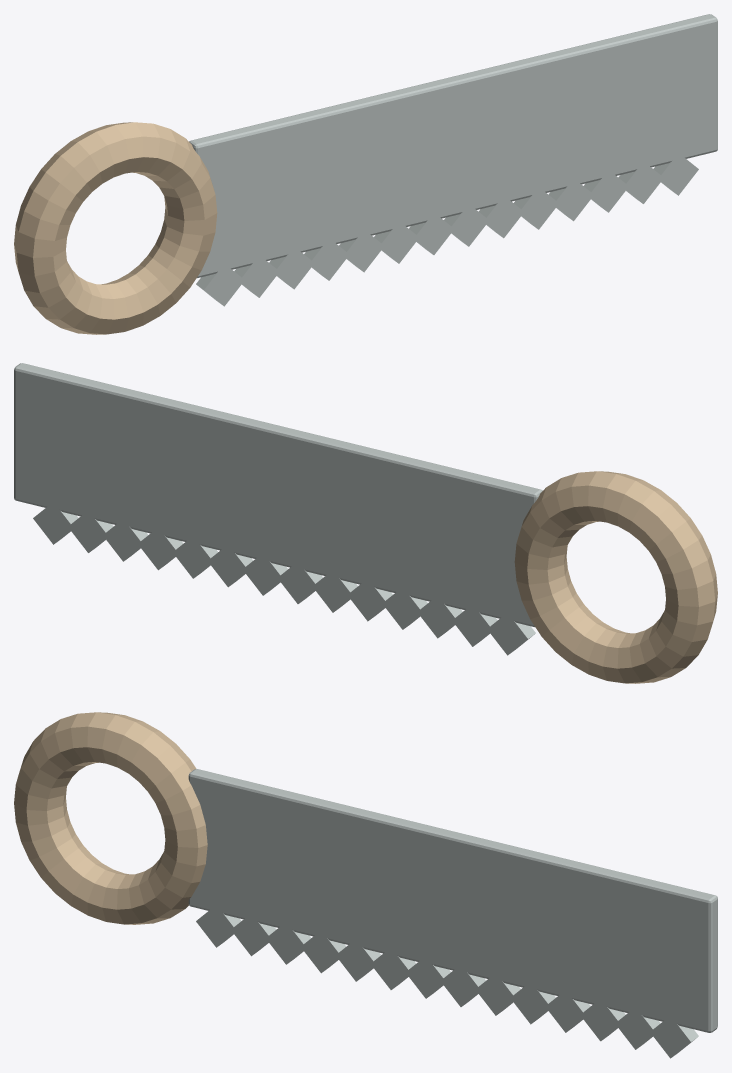
3 views of the same model, one above another, from view 1: azimuth 30°, elevation 25°; view 2: azimuth 150°, elevation 25°; view 3: azimuth 330°, elevation 25° (orthographic).
Parts seen in each view (by area): view 1: saw blade, grip, saw tooth, saw tooth.005, saw tooth.012, saw tooth.006, saw tooth.008, saw tooth.002, saw tooth.013, saw tooth.003, saw tooth.007, saw tooth.001 (+4 smaller); view 2: saw blade, grip, saw tooth, saw tooth.001, saw tooth.005, saw tooth.006, saw tooth.002, saw tooth.008, saw tooth.009, saw tooth.003, saw tooth.007, saw tooth.004 (+4 smaller); view 3: saw blade, grip, saw tooth.013, saw tooth, saw tooth.009, saw tooth.010, saw tooth.005, saw tooth.001, saw tooth.002, saw tooth.006, saw tooth.003, saw tooth.011 (+4 smaller).
Part boxes in pixels (<box>): saw blade: <box>189,14,717,278</box>; grip: <box>14,122,217,334</box>; saw tooth: <box>196,264,244,306</box>; saw tooth.005: <box>374,221,419,263</box>; saw tooth.012: <box>618,161,662,203</box>; saw tooth.006: <box>409,213,454,254</box>; saw tooth.008: <box>478,196,523,238</box>; saw tooth.002: <box>269,247,314,289</box>; saw tooth.013: <box>653,155,698,195</box>; saw tooth.003: <box>304,238,349,280</box>; saw tooth.007: <box>444,204,489,246</box>; saw tooth.001: <box>234,255,279,297</box>; saw blade: <box>14,363,542,627</box>; grip: <box>514,471,717,683</box>; saw tooth: <box>487,613,535,655</box>; saw tooth.001: <box>452,604,497,646</box>; saw tooth.005: <box>313,570,357,612</box>; saw tooth.006: <box>277,562,322,603</box>; saw tooth.002: <box>417,595,462,638</box>; saw tooth.008: <box>208,545,253,587</box>; saw tooth.009: <box>173,536,217,578</box>; saw tooth.003: <box>382,587,427,629</box>; saw tooth.007: <box>242,555,287,595</box>; saw tooth.004: <box>350,578,392,621</box>; saw blade: <box>188,769,717,1032</box>; grip: <box>14,712,207,924</box>; saw tooth.013: <box>653,1017,698,1058</box>; saw tooth: <box>196,905,241,947</box>; saw tooth.009: <box>510,981,555,1024</box>; saw tooth.010: <box>545,990,590,1032</box>; saw tooth.005: <box>374,948,415,989</box>; saw tooth.001: <box>233,914,276,956</box>; saw tooth.002: <box>268,922,310,964</box>; saw tooth.006: <box>408,956,450,998</box>; saw tooth.003: <box>301,935,346,973</box>; saw tooth.011: <box>581,1003,625,1041</box>.
Bounding box in the file's own units: 0.6 × 0.17 × 0.04.
